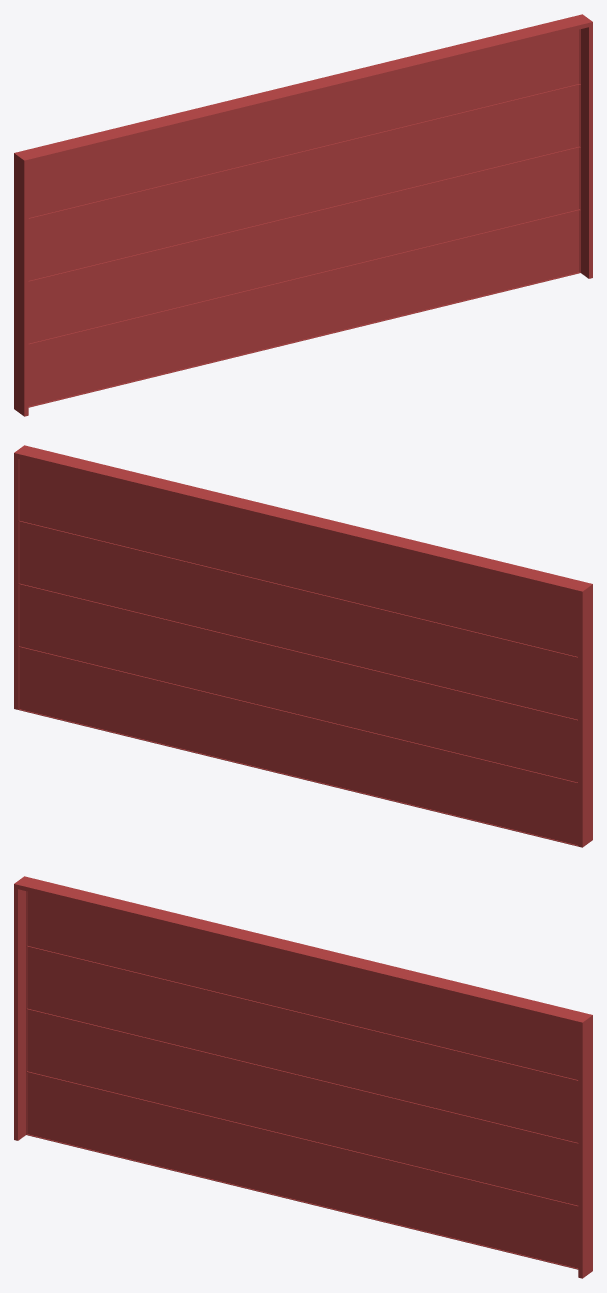
The model's file is GarageDoor.fbx.
3 views of the same model, one above another, from view 1: azimuth 30°, elevation 25°; view 2: azimuth 150°, elevation 25°; view 3: azimuth 330°, elevation 25° (orthographic).
Parts seen in each view (by area): view 1: GarageDoor; view 2: GarageDoor; view 3: GarageDoor.
Boxes of the visible parts, left/top/right/bottom form: GarageDoor: left=14, top=14, right=592, bottom=416; GarageDoor: left=14, top=445, right=592, bottom=847; GarageDoor: left=14, top=876, right=592, bottom=1278.
Bounding box in the file's own units: 506 × 218 × 16.06.
